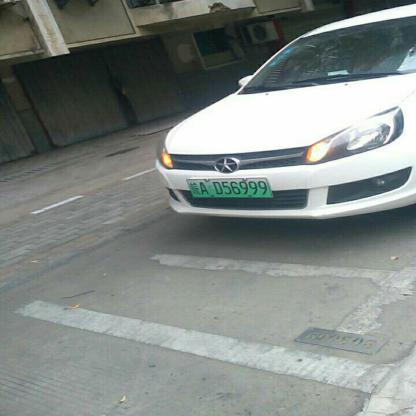lp: (185, 177, 272, 197)
